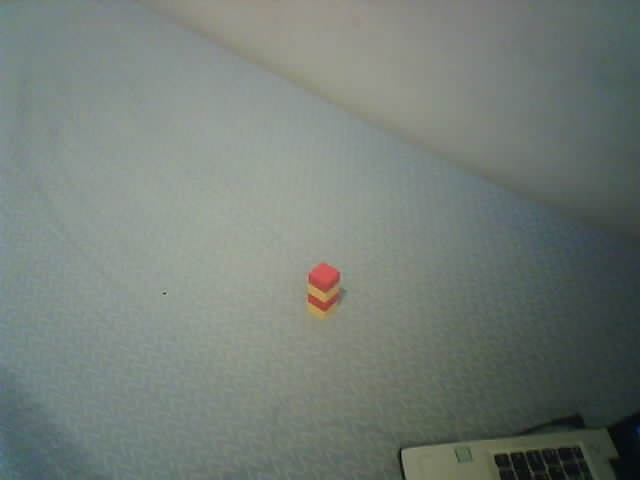lego: (305, 262, 341, 320)
